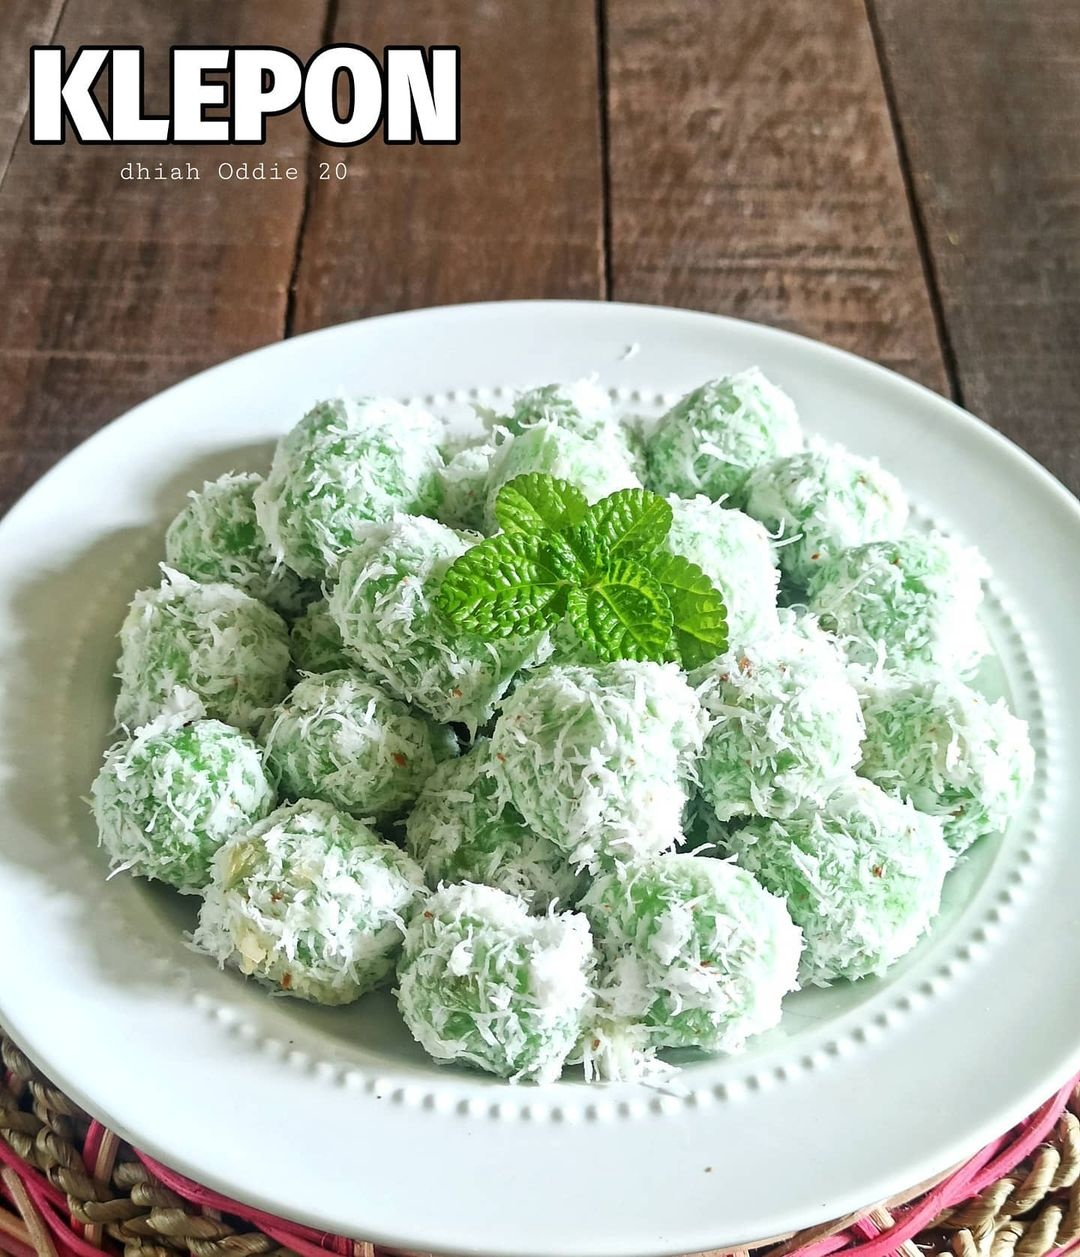klepon: (207, 795, 432, 1026)
